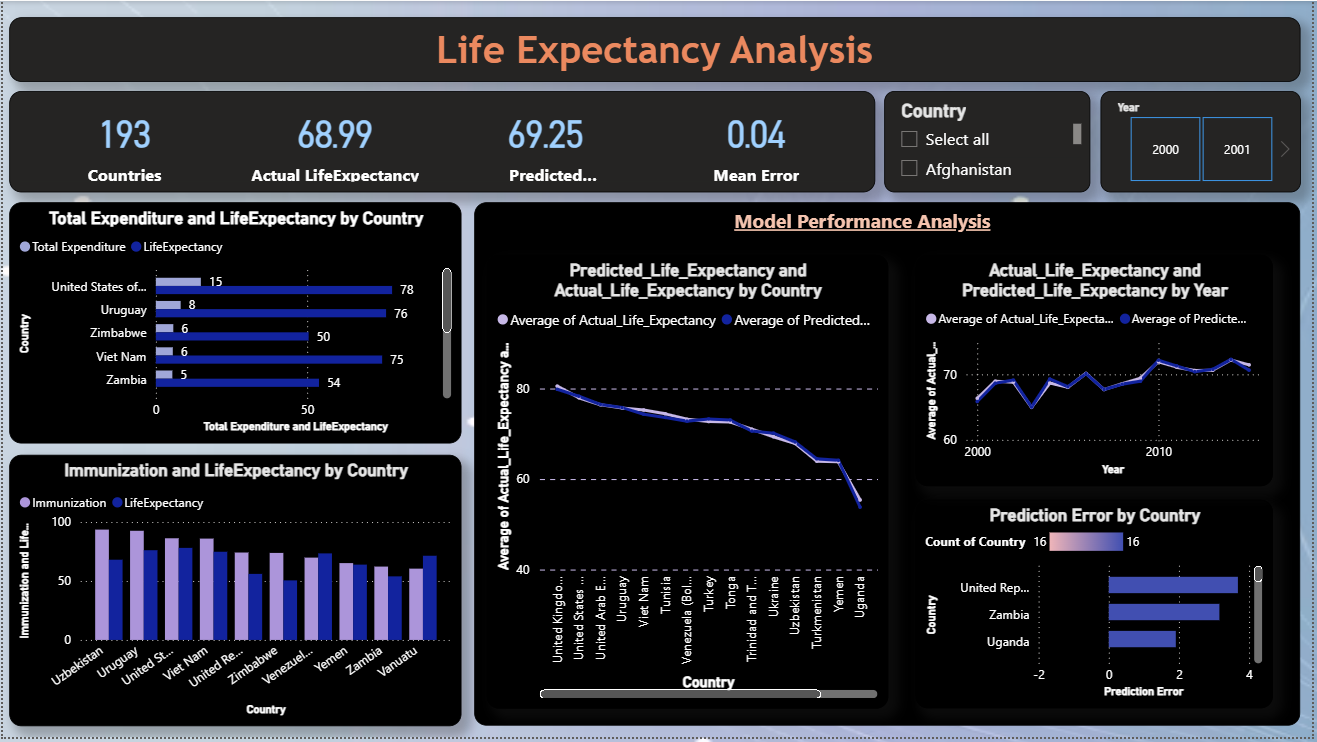

What the dashboard file says about the page in this screenshot:
{"tool":"powerbi","page":{"name":"Page 1","canvas":[1280,720],"ordinal":0},"visuals":[{"type":"clusteredColumnChart","fields":{"Category":["Life Expectancy Data.Country"],"Y":["Avg(Life Expectancy Data.Immunization)","Avg(Life Expectancy Data.LifeExpectancy)"]},"box":[6.1,443.9,442.7,265.4],"z":1000},{"type":"cardVisual","fields":{"Data":["Count(Life Expectancy Data.Country)","Life Expectancy Data.Avg actual LifeExp","life_expectancy_pred.Avg Predicted LifeExp","Avg(life_expectancy_pred.Prediction Error)"]},"box":[6.1,88,847.4,99],"z":2000},{"type":"slicer","fields":{"Values":["Life Expectancy Data.Country"]},"box":[862.1,88,201.8,99],"z":6000},{"type":"slicer","fields":{"Values":["Life Expectancy Data.Year"]},"box":[1073.6,88,195.7,99],"z":7000},{"type":"textbox","box":[6.1,15.9,1263.2,63.6],"z":8000},{"type":"clusteredBarChart","fields":{"Category":["Life Expectancy Data.Country"],"Y":["Avg(Life Expectancy Data.Total Expenditure)","Avg(Life Expectancy Data.LifeExpectancy)"]},"box":[6.1,196.9,442.7,236],"z":9000},{"type":"textbox","box":[470.8,196.9,798.5,512.4],"z":9001},{"type":"lineChart","title":"Predicted_Life_Expectancy and Actual_Life_Expectancy by Country","fields":{"Category":["Life Expectancy Data.Country"],"Y":["Avg(life_expectancy_pred.Actual_Life_Expectancy)","Avg(life_expectancy_pred.Predicted_Life_Expectancy)"]},"box":[485.5,248.2,409.6,443.9],"z":9002},{"type":"lineChart","title":"Actual_Life_Expectancy and Predicted_Life_Expectancy by Year","fields":{"Category":["life_expectancy_pred.Year"],"Y":["Avg(life_expectancy_pred.Actual_Life_Expectancy)","Avg(life_expectancy_pred.Predicted_Life_Expectancy)"]},"box":[931.8,248.2,310.6,226.2],"z":9003},{"type":"barChart","fields":{"Category":["Life Expectancy Data.Country"],"Y":["Avg(life_expectancy_pred.Prediction Error)"]},"box":[937.9,487.9,304.5,204.2],"z":9004},{"type":"textbox","box":[690.9,196.9,299.6,37.9],"z":9005}]}

Visuals, with their boxes in screenshot pixels (x1, y1, x2, y2), scaled from the page's 1280x720 canvas onto the 1317x742 screenshot:
clusteredColumnChart - Life Expectancy Data.Country x Avg(Life Expectancy Data.Immunization): 6:457:462:731
cardVisual - Count(Life Expectancy Data.Country) x Life Expectancy Data.Avg actual LifeExp: 6:91:878:193
slicer - Life Expectancy Data.Country: 887:91:1095:193
slicer - Life Expectancy Data.Year: 1105:91:1306:193
textbox: 6:16:1306:82
clusteredBarChart - Life Expectancy Data.Country x Avg(Life Expectancy Data.Total Expenditure): 6:203:462:446
textbox: 484:203:1306:731
"Predicted_Life_Expectancy and Actual_Life_Expectancy by Country" lineChart: 500:256:921:713
"Actual_Life_Expectancy and Predicted_Life_Expectancy by Year" lineChart: 959:256:1278:489
barChart - Life Expectancy Data.Country x Avg(life_expectancy_pred.Prediction Error): 965:503:1278:713
textbox: 711:203:1019:242
